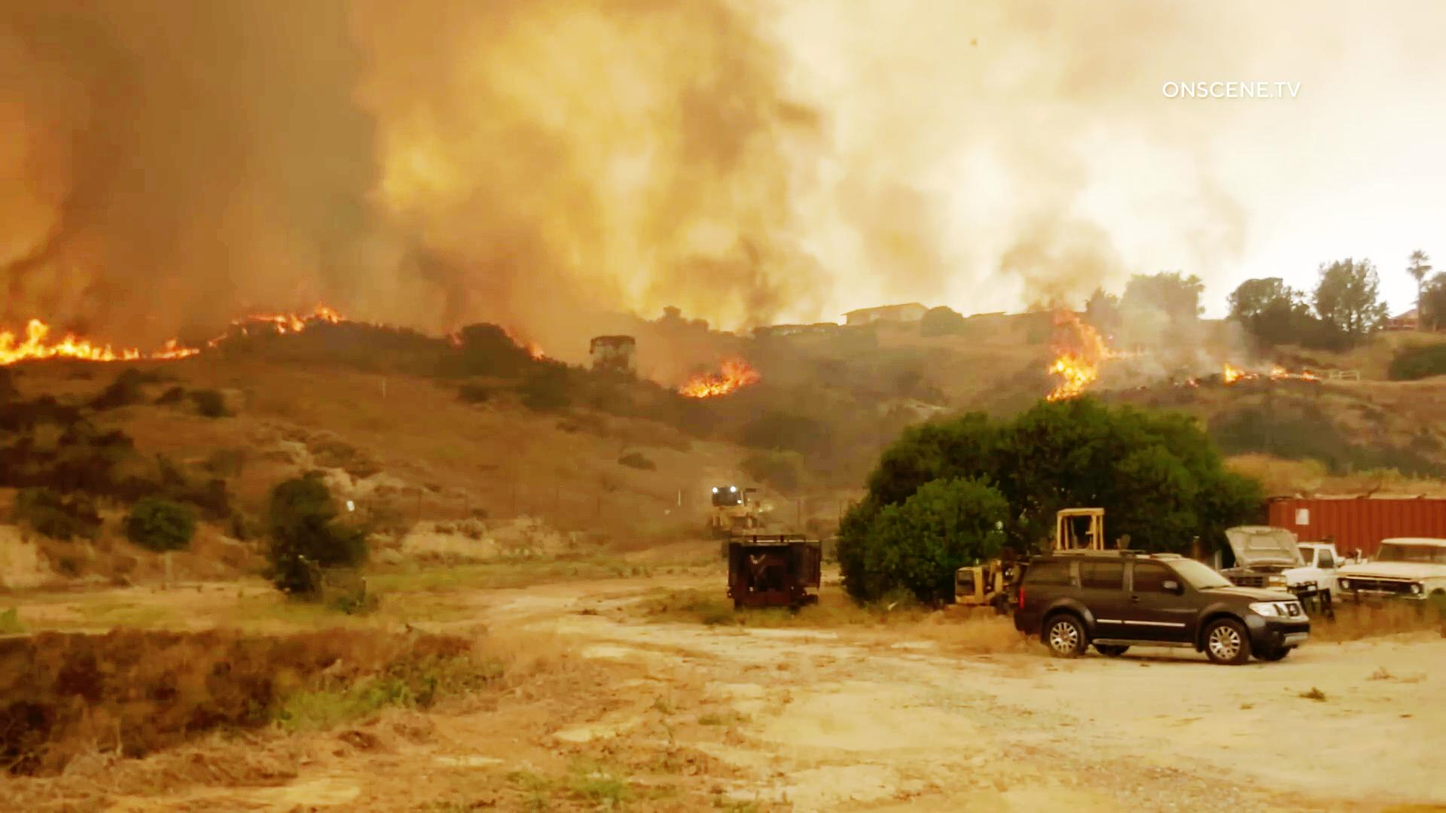fire: (0, 318, 140, 383), (1036, 301, 1102, 396), (688, 364, 752, 407)
